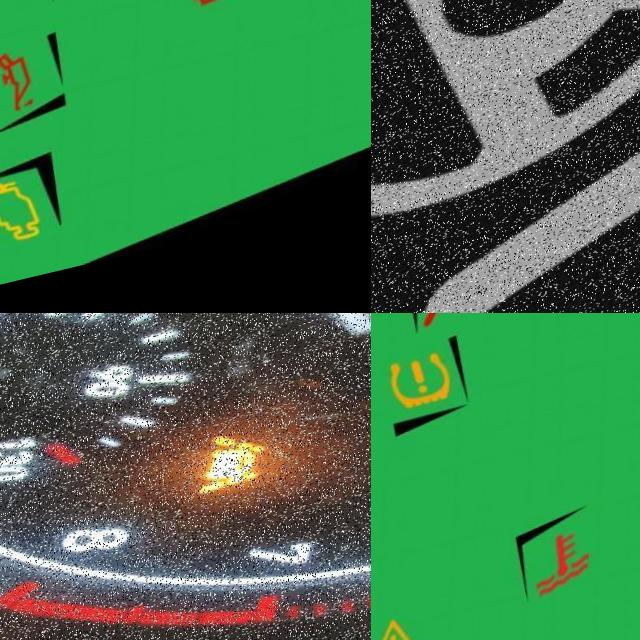Electronic Power Steering: (371, 0, 640, 313)
